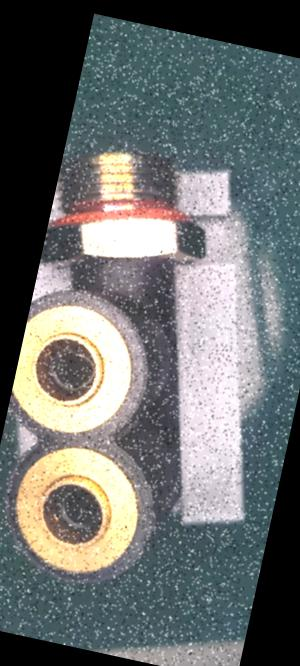bump: (134, 518, 163, 563)
off-centered: (38, 341, 104, 397)
white mark: (101, 260, 119, 280)
